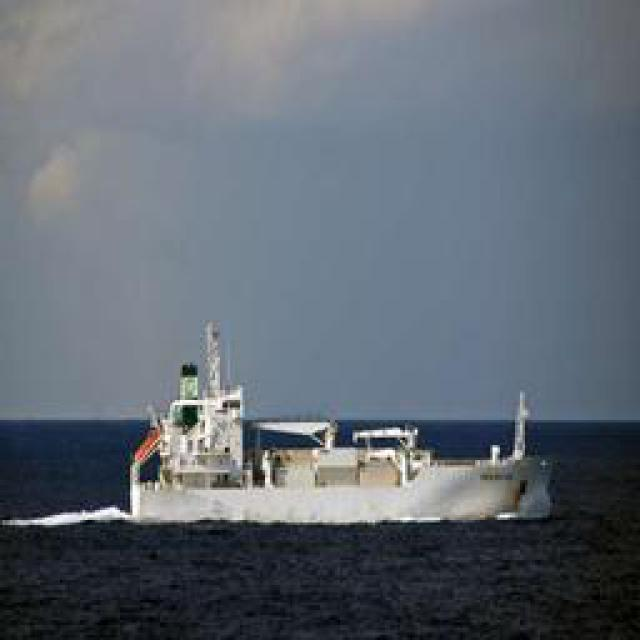Ship: (91, 340, 599, 530)
